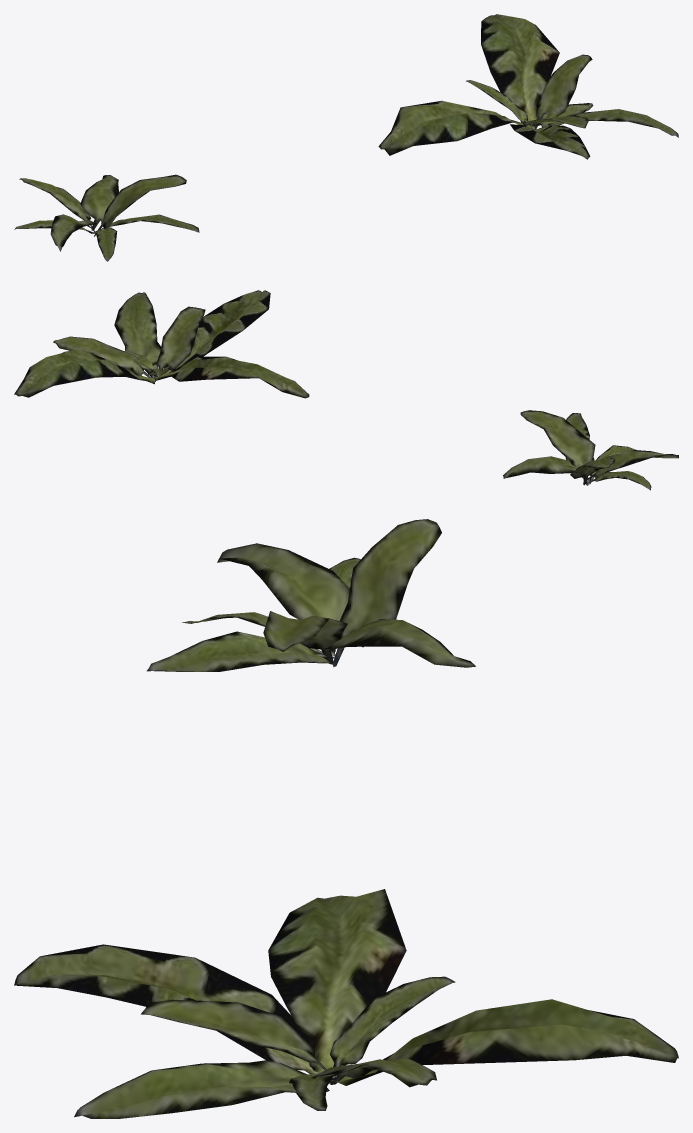
The model's file is VG_Flower.glb.
The picture shows the model from 3 angles, top to bottom: view 1: azimuth 30°, elevation 25°; view 2: azimuth 150°, elevation 25°; view 3: azimuth 270°, elevation 25°; orthographic projection. The views are drawn at different scales.
Parts seen in each view (by area): view 1: flower_gazania_a_LOD0; view 2: flower_gazania_a_LOD0; view 3: flower_gazania_a_LOD0.
Boxes of the visible parts, bbox=[...] form: flower_gazania_a_LOD0: bbox=[14, 14, 678, 261]; flower_gazania_a_LOD0: bbox=[14, 290, 678, 490]; flower_gazania_a_LOD0: bbox=[14, 519, 678, 1118].
Size of the model in its own units: 0.5388 by 0.048 by 0.2684.
Materials: 1 (1 with a texture image).
